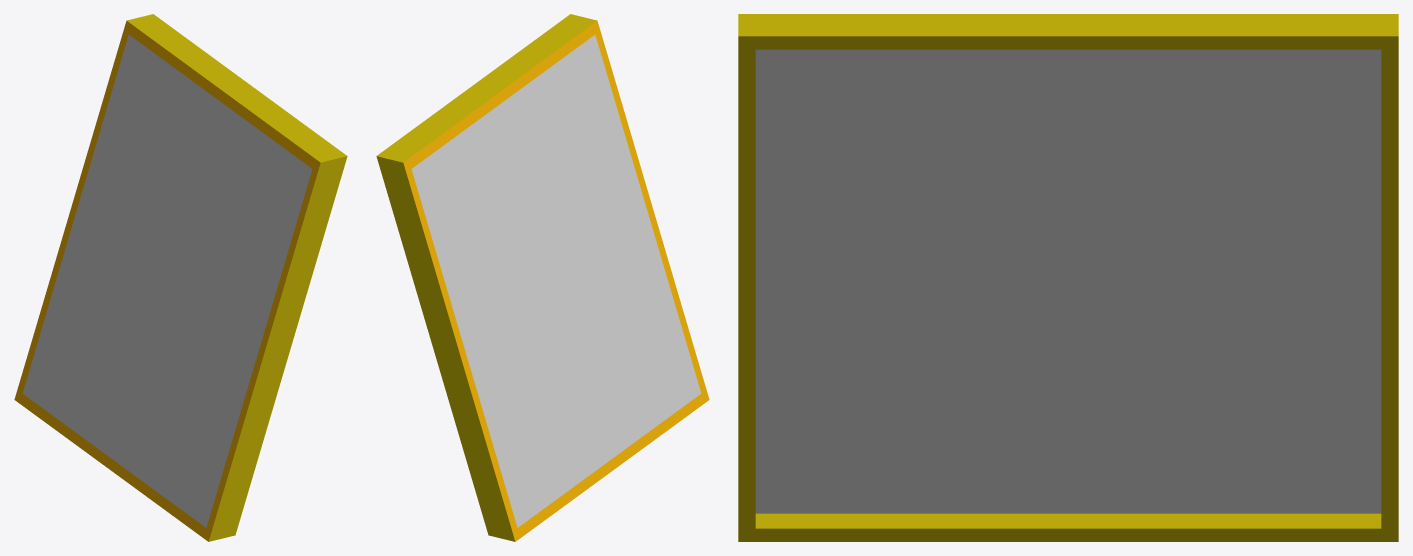
Rendered from window_slanted_3x1x3.dae.
3 views of the same model, side by side, from view 1: azimuth 30°, elevation 25°; view 2: azimuth 150°, elevation 25°; view 3: azimuth 270°, elevation 25° (orthographic). The views are drawn at different scales.
Parts seen in each view (by area): view 1: Cube; view 2: Cube; view 3: Cube.
Part boxes in pixels (x1,y1,x2,y2): Cube: [14, 14, 347, 541]; Cube: [376, 14, 709, 541]; Cube: [738, 14, 1398, 541].
Bounding box in the file's own units: 0.31 × 0.75 × 0.75.
